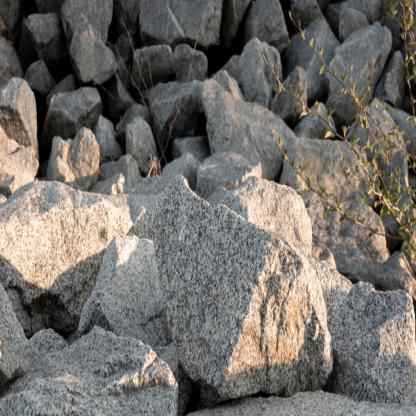Igneous_Diorite: (148, 167, 337, 399), (4, 174, 137, 314), (306, 233, 413, 405), (3, 329, 174, 415), (199, 65, 305, 168), (325, 16, 402, 114), (147, 86, 206, 153), (68, 18, 122, 78), (130, 46, 211, 80), (45, 85, 106, 126)
